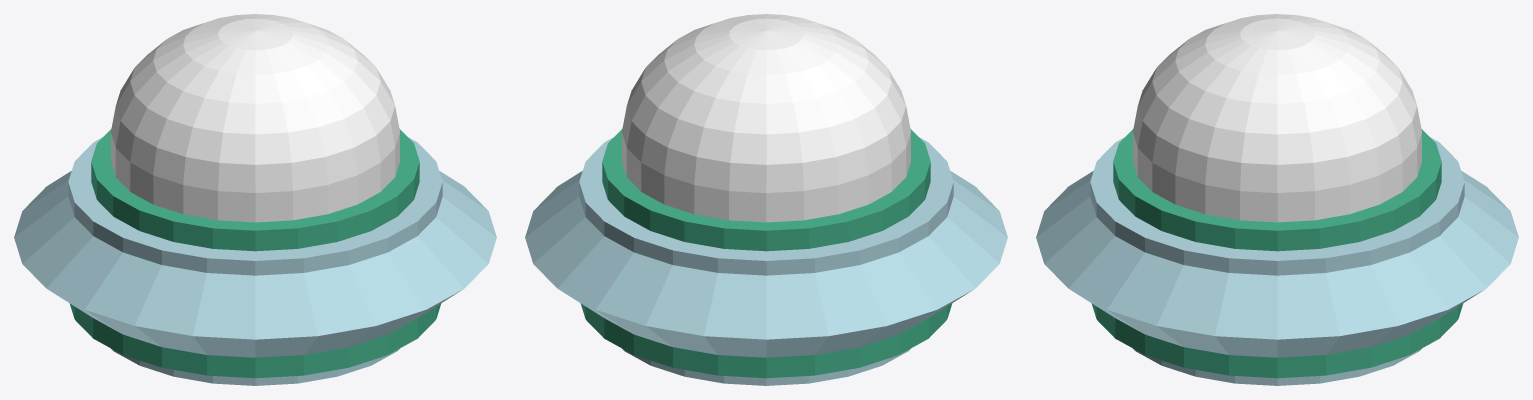
The picture shows the model from 3 angles, left to right: view 1: azimuth 30°, elevation 25°; view 2: azimuth 150°, elevation 25°; view 3: azimuth 270°, elevation 25°; orthographic projection.
Visible parts, largest first — view 1: enemy_ufoGreen; view 2: enemy_ufoGreen; view 3: enemy_ufoGreen.
Part boxes in pixels (x1=…): enemy_ufoGreen: x1=14, y1=14, x2=496, y2=385; enemy_ufoGreen: x1=525, y1=14, x2=1007, y2=385; enemy_ufoGreen: x1=1036, y1=14, x2=1518, y2=385.
Bounding box in the file's own units: 1 × 0.6529 × 1.
